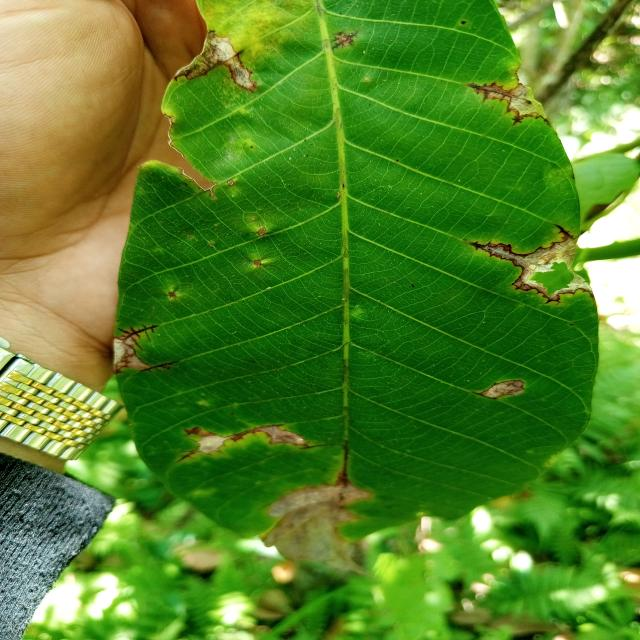Colletotrichum: (461, 20, 467, 24)
Corynespora: (471, 240, 594, 304), (176, 424, 282, 462), (469, 82, 552, 127), (115, 324, 156, 349), (336, 441, 353, 486), (330, 31, 358, 51), (142, 360, 179, 374), (552, 223, 578, 241)
Leaf-Blight: (254, 482, 372, 576), (175, 31, 255, 90), (113, 340, 150, 372), (512, 86, 546, 116), (263, 427, 306, 446), (483, 380, 523, 399)
